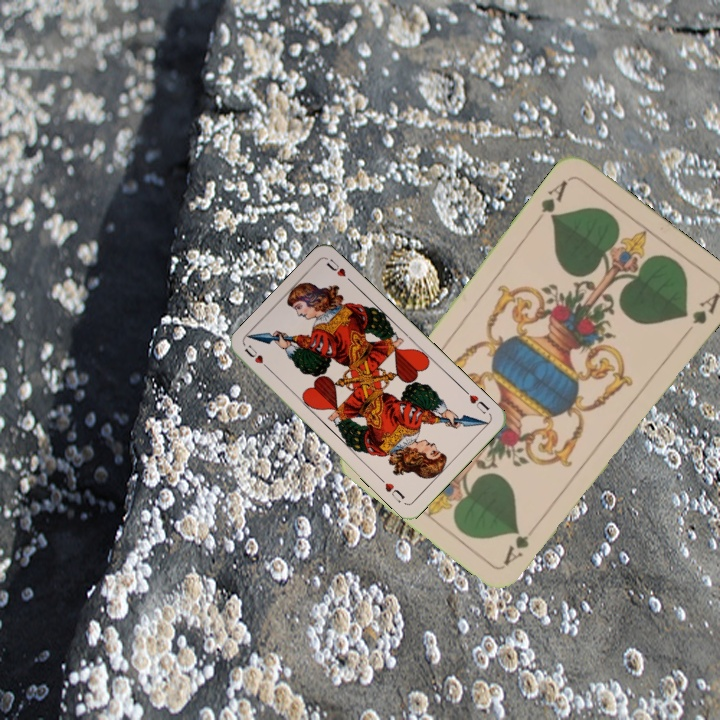GA: (531, 176, 571, 226), (499, 531, 532, 568)
HU: (240, 341, 274, 374), (460, 386, 492, 417)
